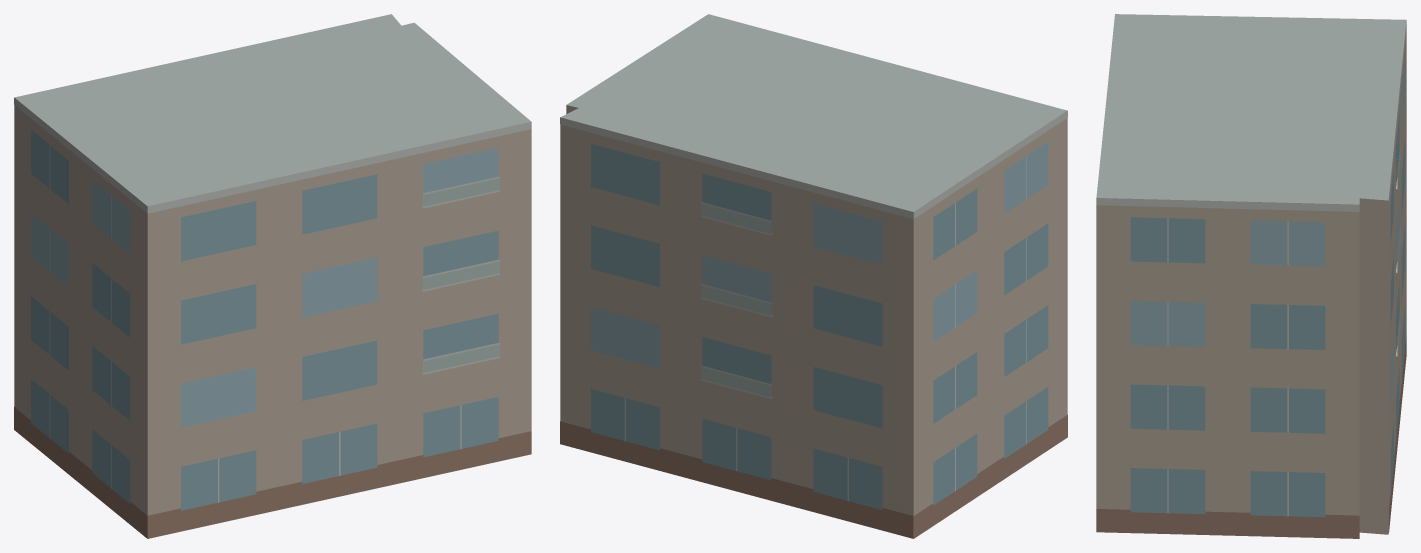
Rendered from survey-upis-32837798.glb.
The picture shows the model from 3 angles, left to right: view 1: azimuth 30°, elevation 25°; view 2: azimuth 150°, elevation 25°; view 3: azimuth 270°, elevation 25°; orthographic projection. The views are drawn at different scales.
Visible parts, largest first — view 1: survey-upis-32837798.tmp; view 2: survey-upis-32837798.tmp; view 3: survey-upis-32837798.tmp.
Part boxes in pixels (bbox=[...]): survey-upis-32837798.tmp: bbox=[14, 14, 531, 538]; survey-upis-32837798.tmp: bbox=[560, 14, 1067, 538]; survey-upis-32837798.tmp: bbox=[1096, 14, 1406, 538].
Bounding box in the file's own units: 13.58 × 11.1 × 9.35.
